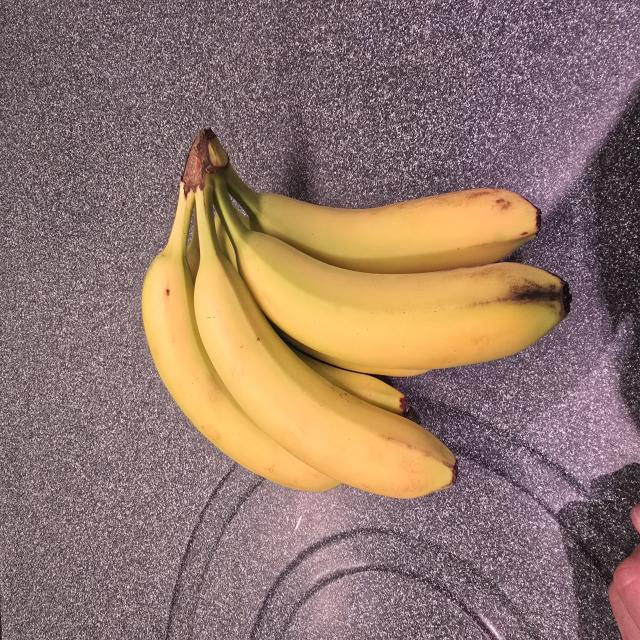Banana: (122, 114, 586, 516)
